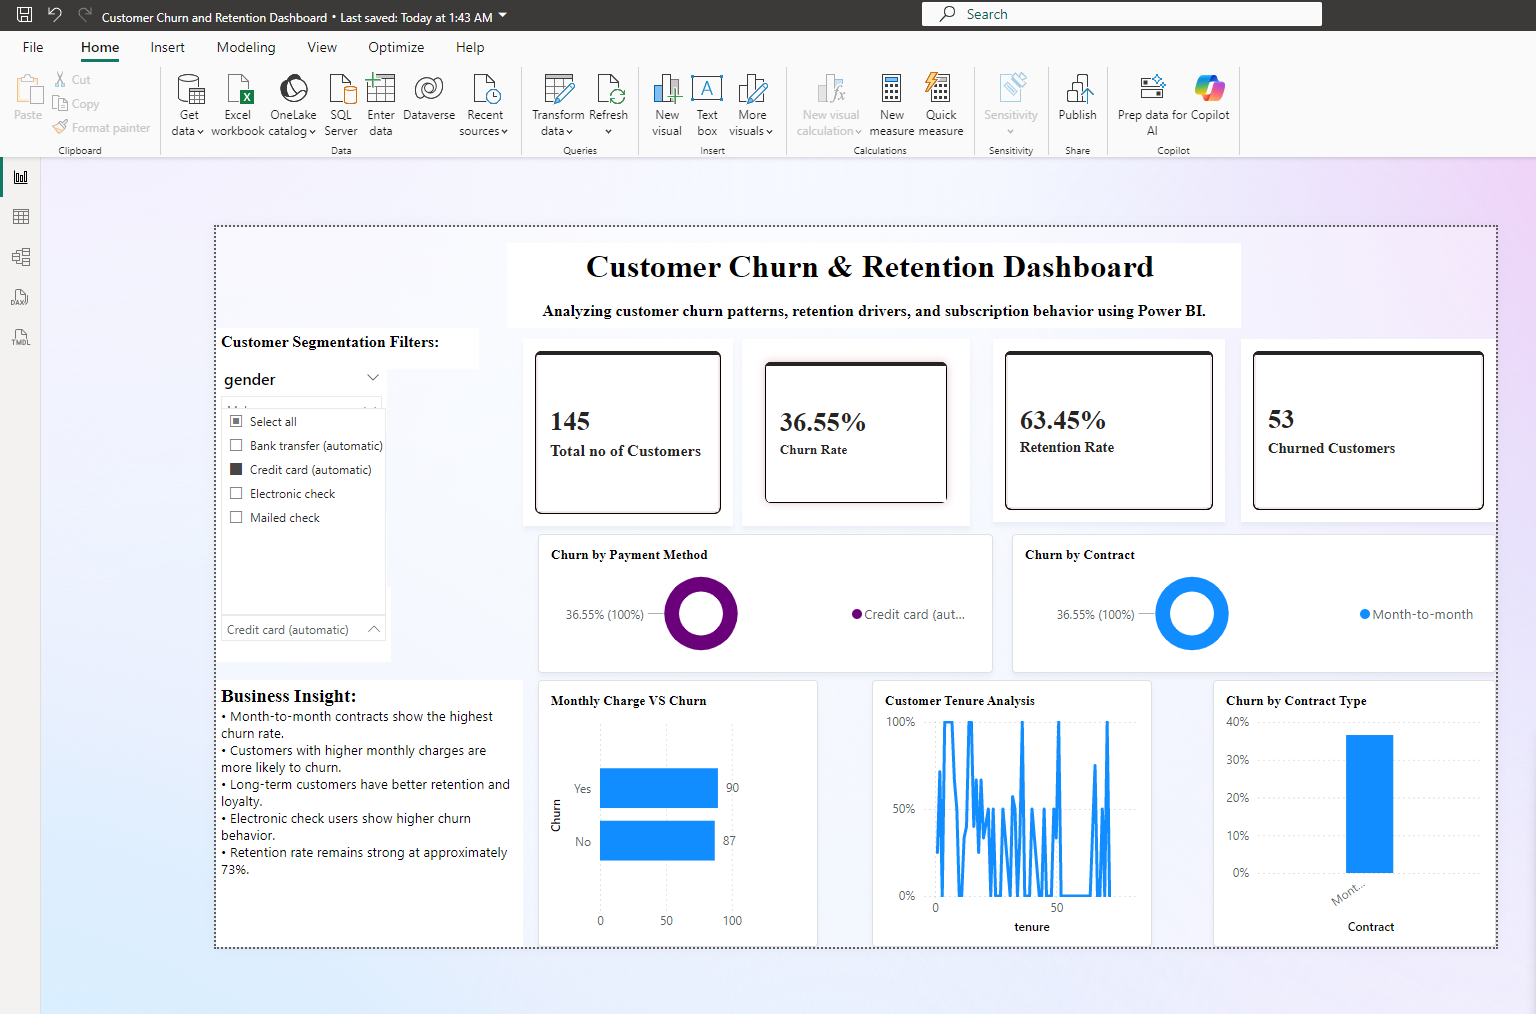

The page's visual inventory and layout, read from the dashboard file:
{"tool":"powerbi","page":{"name":"Page 1","canvas":[1280,720],"ordinal":0},"visuals":[{"type":"cardVisual","fields":{"Data":["Sum(cleaned_churn_data.ChurnValue)"]},"box":[1025,112,255,183],"z":0},{"type":"cardVisual","fields":{"Data":["Count(cleaned_churn_data.customerID)"]},"box":[307,112,210,187],"z":1000},{"type":"cardVisual","fields":{"Data":["cleaned_churn_data.Churn Rate"]},"box":[526,112,228,187],"z":2000},{"type":"cardVisual","fields":{"Data":["cleaned_churn_data.Retention Rate"]},"box":[777,112,232,183],"z":3000},{"type":"clusteredColumnChart","title":"Churn by Contract Type","fields":{"Y":["cleaned_churn_data.Churn Percentage"],"Category":["cleaned_churn_data.Contract"]},"box":[997,453,283,267],"z":4000},{"type":"donutChart","title":"Churn  by Payment Method","fields":{"Category":["cleaned_churn_data.PaymentMethod"],"Y":["cleaned_churn_data.Churn Percentage"]},"box":[322,307,455,139],"z":5000},{"type":"donutChart","title":"Churn by Contract","fields":{"Y":["cleaned_churn_data.Churn Percentage"],"Category":["cleaned_churn_data.Contract"]},"box":[796,307,484,139],"z":6000},{"type":"clusteredBarChart","title":"Monthly Charge VS Churn ","fields":{"Category":["cleaned_churn_data.Churn"],"Y":["Avg(cleaned_churn_data.MonthlyCharges)"]},"box":[322,453,280,267],"z":7000},{"type":"lineChart","title":"Customer Tenure Analysis","fields":{"Category":["cleaned_churn_data.tenure"],"Y":["cleaned_churn_data.Churn Percentage"]},"box":[656,453,280,267],"z":8000},{"type":"slicer","fields":{"Values":["cleaned_churn_data.gender"]},"box":[0,141,171,65],"z":9000},{"type":"slicer","fields":{"Values":["cleaned_churn_data.Contract"]},"box":[0,206,167,79],"z":10000},{"type":"slicer","fields":{"Values":["cleaned_churn_data.InternetService"]},"box":[0,285,171,75],"z":10001},{"type":"slicer","fields":{"Values":["cleaned_churn_data.PaymentMethod"]},"box":[0,360,175,75],"z":10002},{"type":"textbox","box":[291,16,734,85],"z":10003},{"type":"textbox","box":[0,453,307,267],"z":10004},{"type":"textbox","box":[0,101,263,41],"z":10005}]}

Visuals, with their boxes on the page's 1280x720 design canvas (x1, y1, x2, y2). These are canvas units, not pixel positions in the 1536x1014 screenshot, which may show the page scaled, cropped or inside an application window:
cardVisual - Sum(cleaned_churn_data.ChurnValue): 1025:112:1280:295
cardVisual - Count(cleaned_churn_data.customerID): 307:112:517:299
cardVisual - cleaned_churn_data.Churn Rate: 526:112:754:299
cardVisual - cleaned_churn_data.Retention Rate: 777:112:1009:295
"Churn by Contract Type" clusteredColumnChart: 997:453:1280:720
"Churn  by Payment Method" donutChart: 322:307:777:446
"Churn by Contract" donutChart: 796:307:1280:446
"Monthly Charge VS Churn " clusteredBarChart: 322:453:602:720
"Customer Tenure Analysis" lineChart: 656:453:936:720
slicer - cleaned_churn_data.gender: 0:141:171:206
slicer - cleaned_churn_data.Contract: 0:206:167:285
slicer - cleaned_churn_data.InternetService: 0:285:171:360
slicer - cleaned_churn_data.PaymentMethod: 0:360:175:435
textbox: 291:16:1025:101
textbox: 0:453:307:720
textbox: 0:101:263:142
